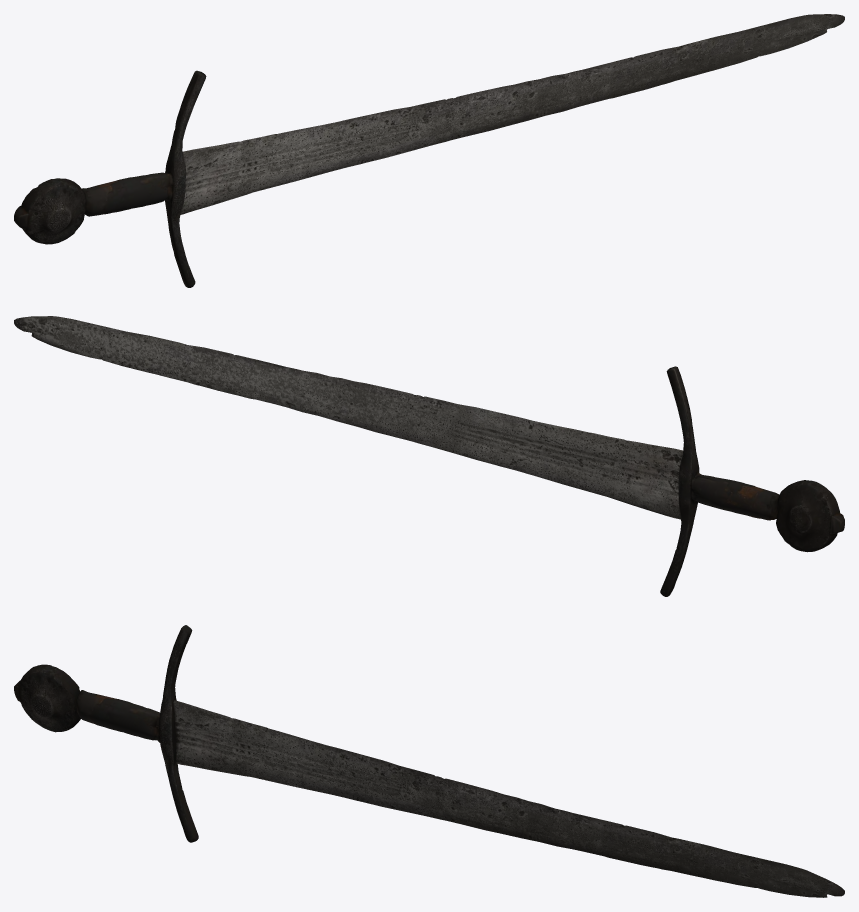
File: sword.glb
3 views of the same model, one above another, from view 1: azimuth 30°, elevation 25°; view 2: azimuth 150°, elevation 25°; view 3: azimuth 330°, elevation 25° (orthographic).
Parts seen in each view (by area): view 1: Object_4; view 2: Object_4; view 3: Object_4.
Part boxes in pixels (bbox=[...]): Object_4: bbox=[14, 14, 844, 287]; Object_4: bbox=[14, 316, 844, 596]; Object_4: bbox=[14, 625, 844, 897].
Bounding box in the file's own units: 0.9155 × 0.2335 × 0.0343.
Materials: 1 (1 with a texture image).
